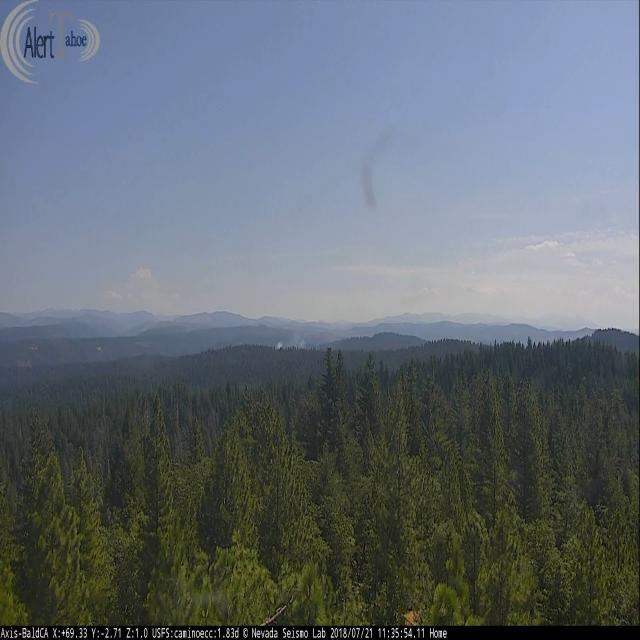smoke: (276, 330, 308, 351)
